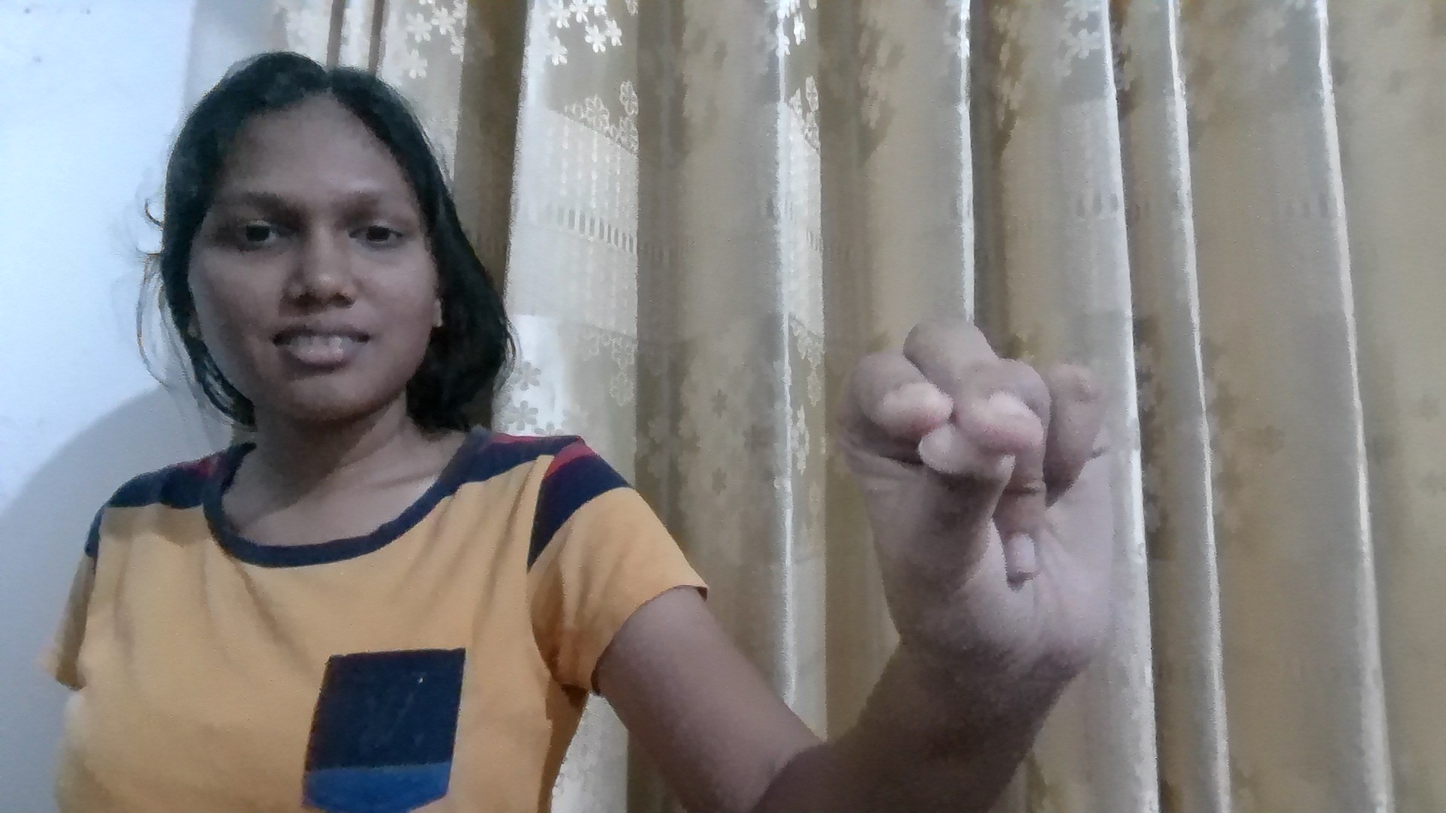No: (823, 253, 1298, 690)
